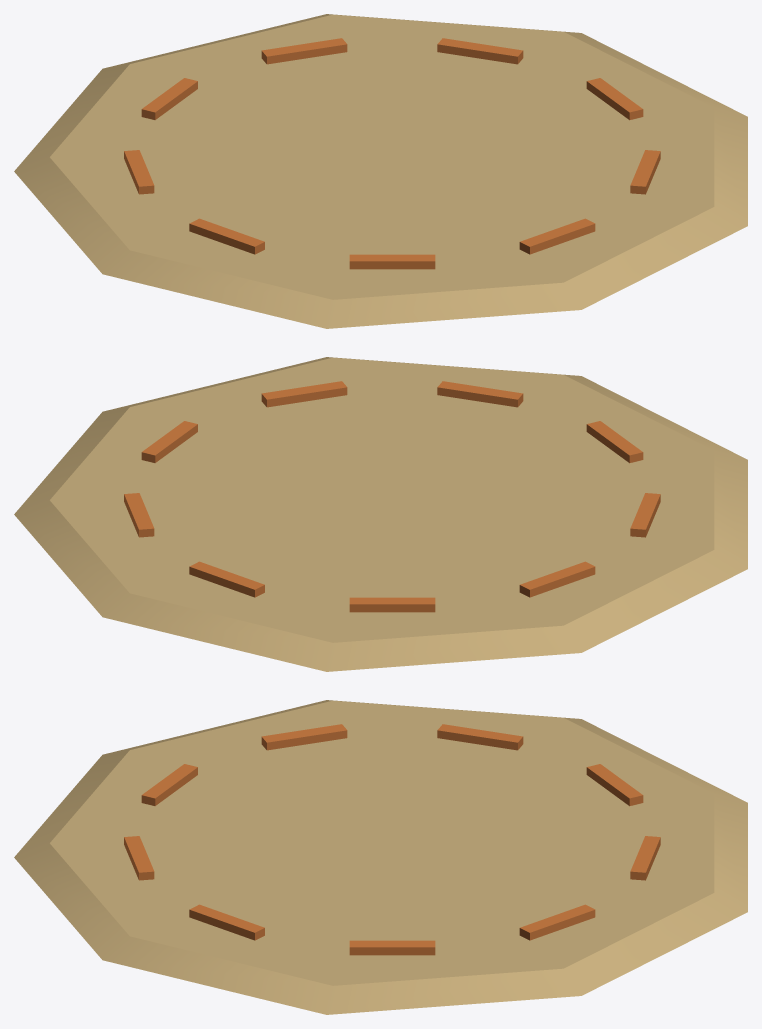
Rendered from foundation.glb.
The picture shows the model from 3 angles, top to bottom: view 1: azimuth 30°, elevation 25°; view 2: azimuth 150°, elevation 25°; view 3: azimuth 270°, elevation 25°; orthographic projection.
Visible parts, largest first — view 1: foundation_inlay, foundation_rune_3, foundation_rune_7, foundation_rune_8, foundation_rune_2, foundation_rune_4, foundation_rune_0, foundation_rune_6, foundation_rune_1, foundation_rune_5; view 2: foundation_inlay, foundation_rune_6, foundation_rune_1, foundation_rune_2, foundation_rune_5, foundation_rune_7, foundation_rune_3, foundation_rune_0, foundation_rune_4, foundation_rune_8; view 3: foundation_inlay, foundation_rune_0, foundation_rune_4, foundation_rune_5, foundation_rune_8, foundation_rune_1, foundation_rune_6, foundation_rune_3, foundation_rune_7, foundation_rune_2.
Part boxes in pixels (box(x1,y1,x2,y2)): foundation_inlay: box(14, 14, 747, 328); foundation_rune_3: box(349, 254, 435, 269); foundation_rune_7: box(261, 38, 347, 64); foundation_rune_8: box(437, 38, 523, 64); foundation_rune_2: box(519, 218, 595, 254); foundation_rune_4: box(189, 218, 264, 254); foundation_rune_0: box(586, 78, 643, 120); foundation_rune_6: box(141, 78, 197, 119); foundation_rune_1: box(630, 150, 660, 194); foundation_rune_5: box(124, 150, 154, 194); foundation_inlay: box(14, 357, 747, 671); foundation_rune_6: box(349, 597, 435, 612); foundation_rune_1: box(261, 381, 347, 407); foundation_rune_2: box(437, 381, 523, 407); foundation_rune_5: box(519, 561, 595, 597); foundation_rune_7: box(189, 561, 264, 597); foundation_rune_3: box(586, 421, 643, 463); foundation_rune_0: box(141, 421, 197, 462); foundation_rune_4: box(630, 493, 660, 537); foundation_rune_8: box(124, 493, 154, 537); foundation_inlay: box(14, 700, 747, 1014); foundation_rune_0: box(349, 940, 435, 955); foundation_rune_4: box(261, 724, 347, 750); foundation_rune_5: box(437, 724, 523, 750); foundation_rune_8: box(519, 904, 595, 940); foundation_rune_1: box(189, 904, 264, 940); foundation_rune_6: box(586, 764, 643, 806); foundation_rune_3: box(141, 764, 197, 805); foundation_rune_7: box(630, 836, 660, 880); foundation_rune_2: box(124, 836, 154, 880).
Size of what is drawn, in the model's own units: 10.44 by 0.34 by 10.28.
